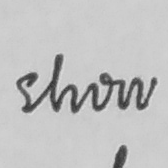h: (48, 51, 80, 115)
o: (87, 70, 114, 113)
s: (15, 70, 40, 114)
w: (115, 73, 159, 112)
